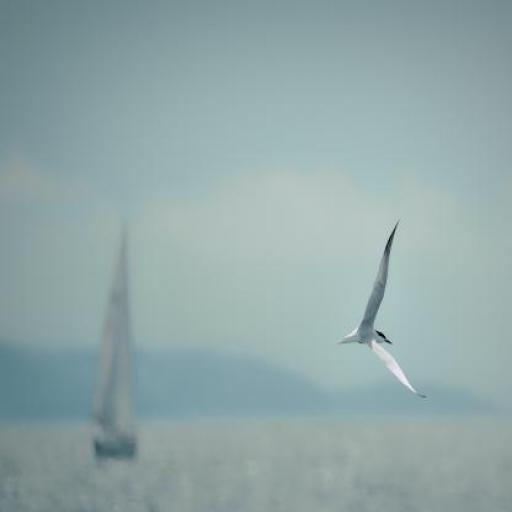bird: (334, 218, 427, 400)
